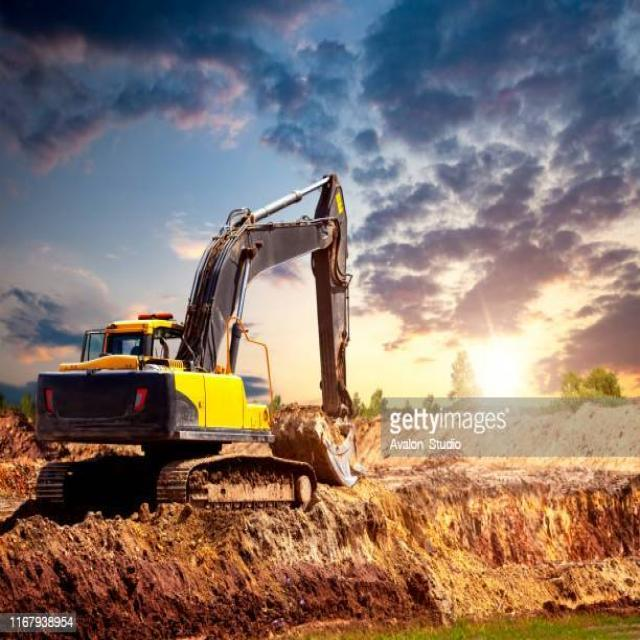C_E: (24, 168, 366, 520)
